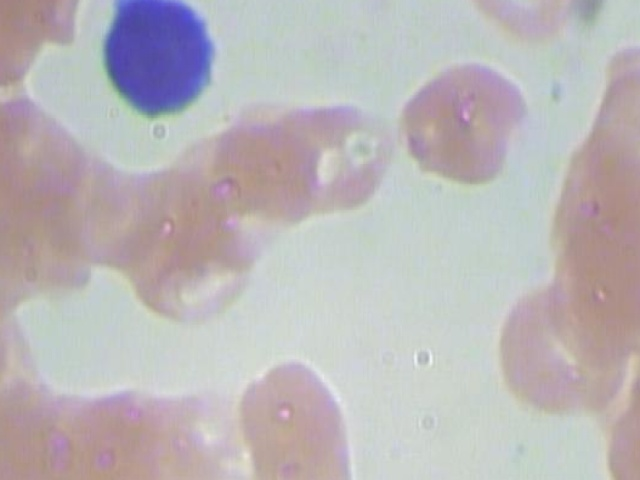RBC: (484, 273, 636, 416), (255, 85, 392, 222), (400, 56, 531, 192), (232, 351, 360, 480), (552, 181, 640, 355), (69, 154, 173, 269), (124, 379, 235, 480), (0, 375, 103, 480), (581, 66, 640, 196), (453, 0, 587, 44), (0, 200, 45, 320), (247, 473, 365, 480)
WBC: (81, 0, 225, 127)
